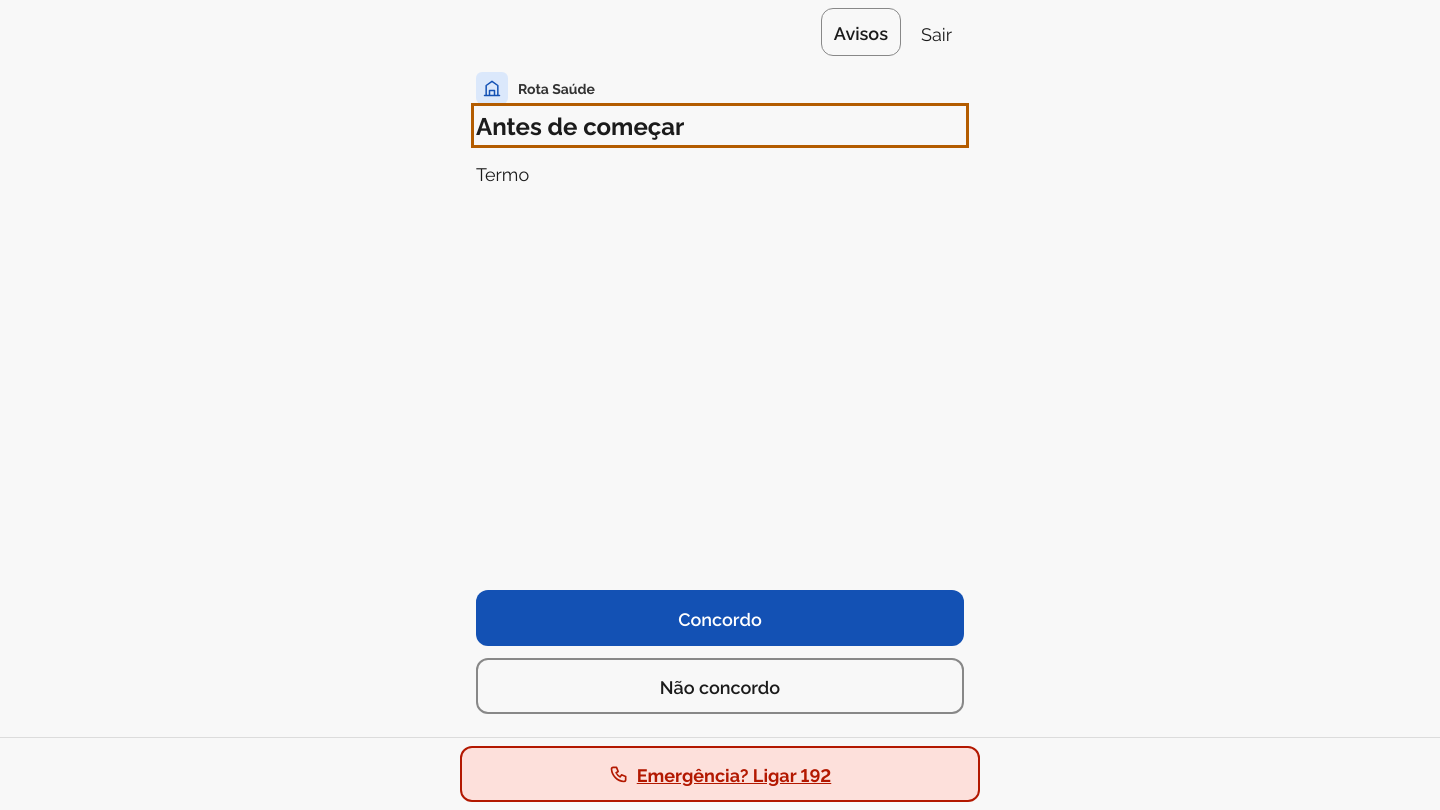
Flow — Meus encaminhamentos (módulo 26a) › com care_regulation: Minhas triagens → Meus encaminhamentos → Voltar
Click the button "Concordo" at (720,618), box x1=476 y1=590 x2=964 y2=646
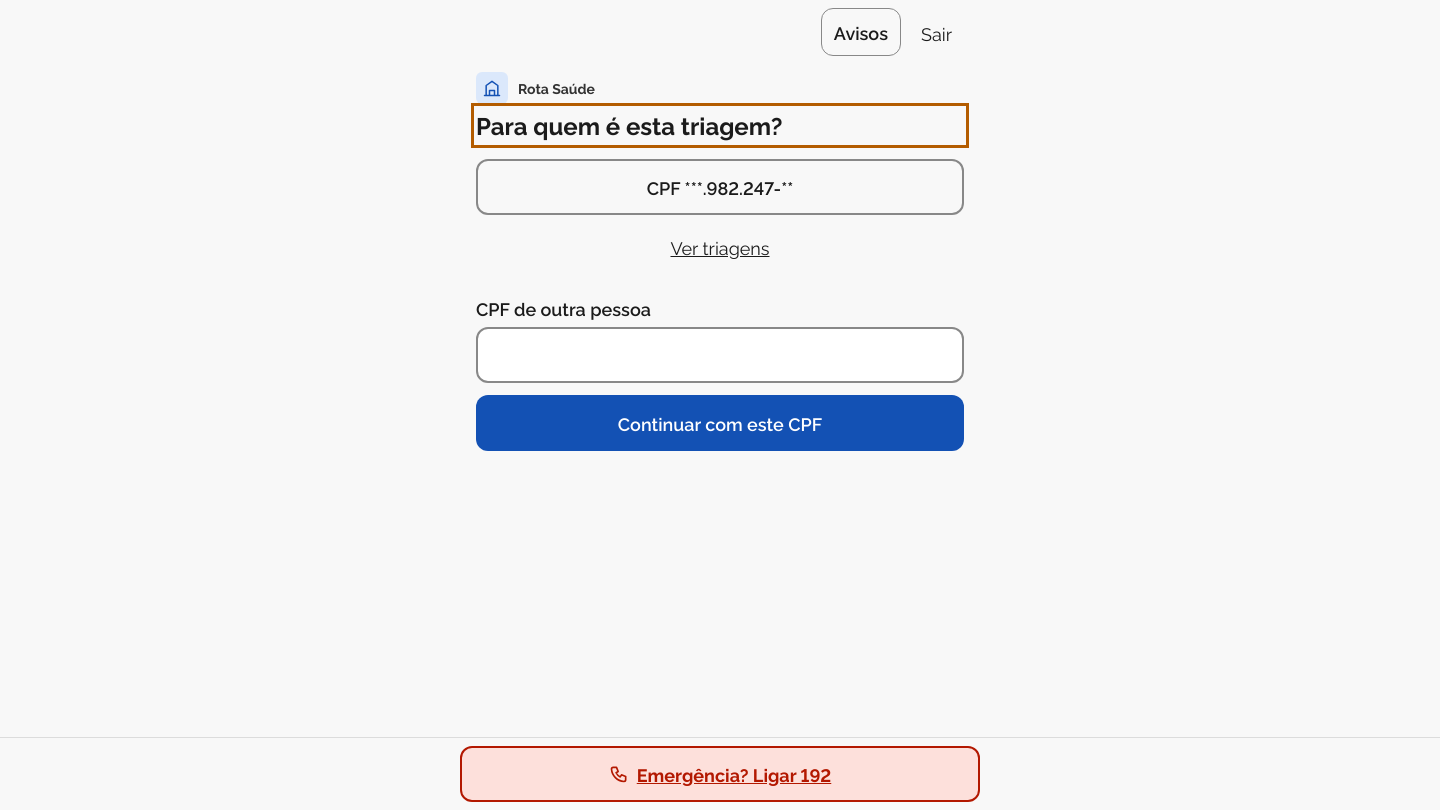
Click the button with aria-label "Ver triagens de ***.982.247-**" at (720,247), box x1=476 y1=223 x2=964 y2=271
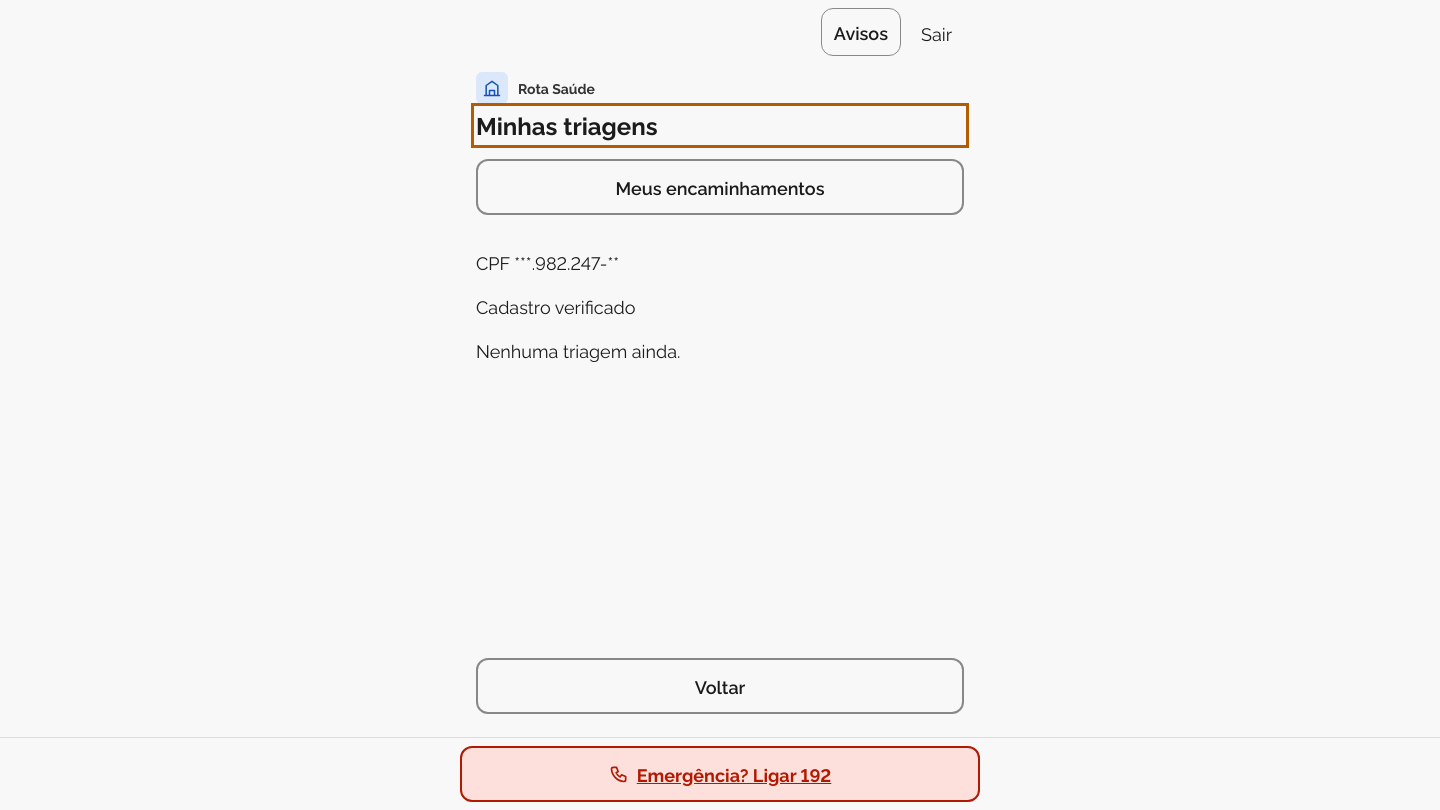
Click the button "Meus encaminhamentos" at (720,187), box x1=476 y1=159 x2=964 y2=215
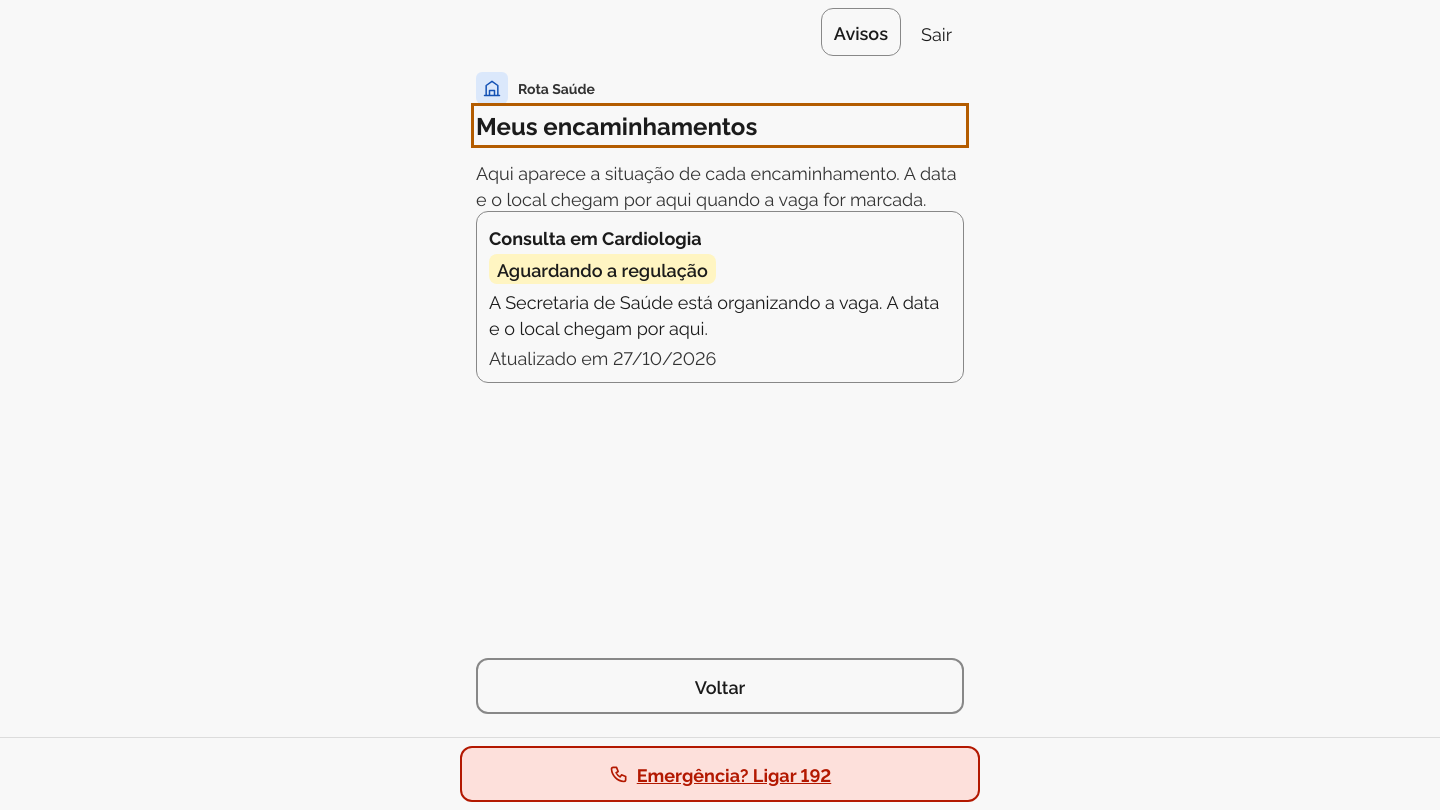
Result: the heading "Meus encaminhamentos" is shown at x1=476 y1=108 x2=757 y2=141
Result: the text "Aguardando a regulação" is shown at x1=489 y1=254 x2=716 y2=284
Click the button "Voltar" at (720,686), box x1=476 y1=658 x2=964 y2=714
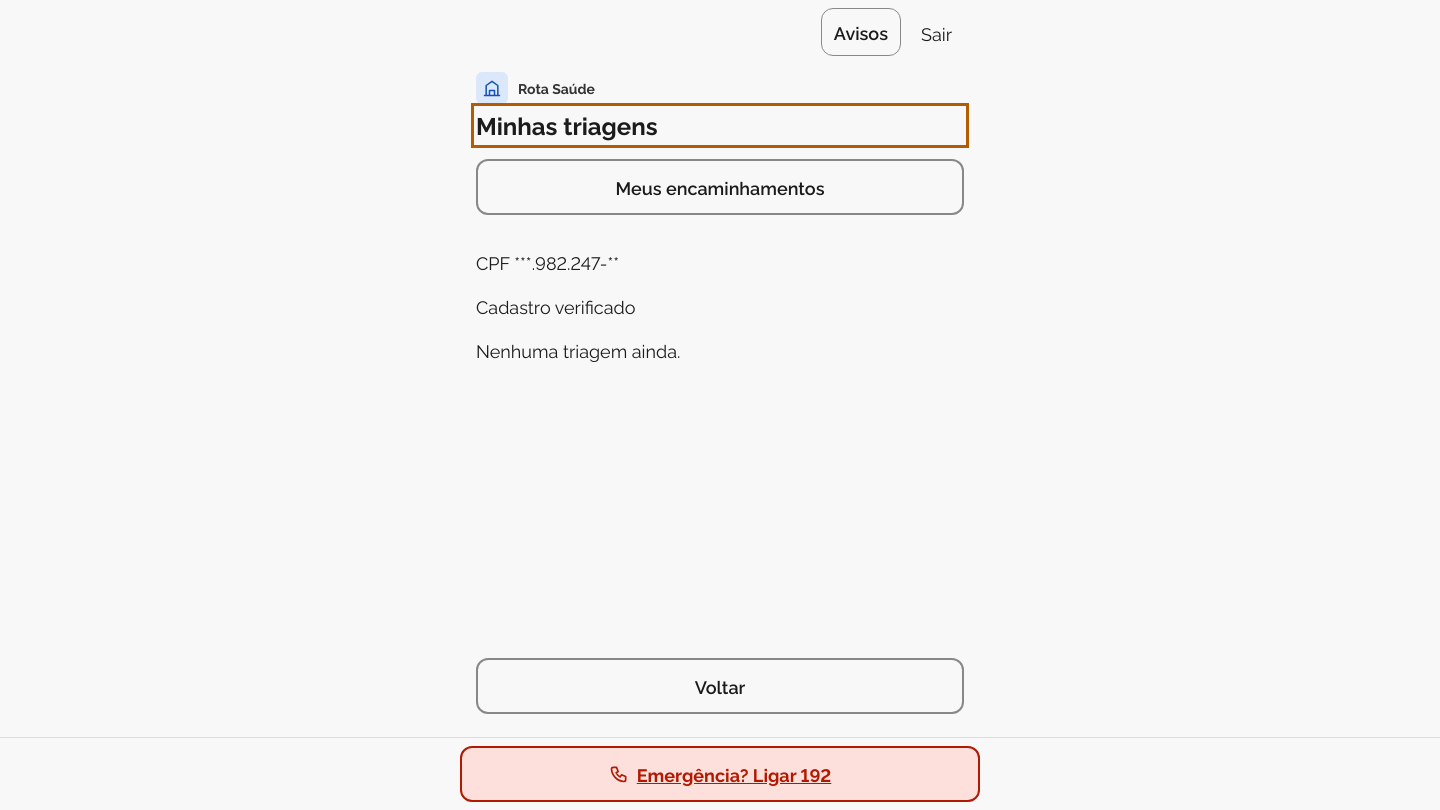
Result: the heading "Minhas triagens" is shown at x1=476 y1=108 x2=658 y2=141
